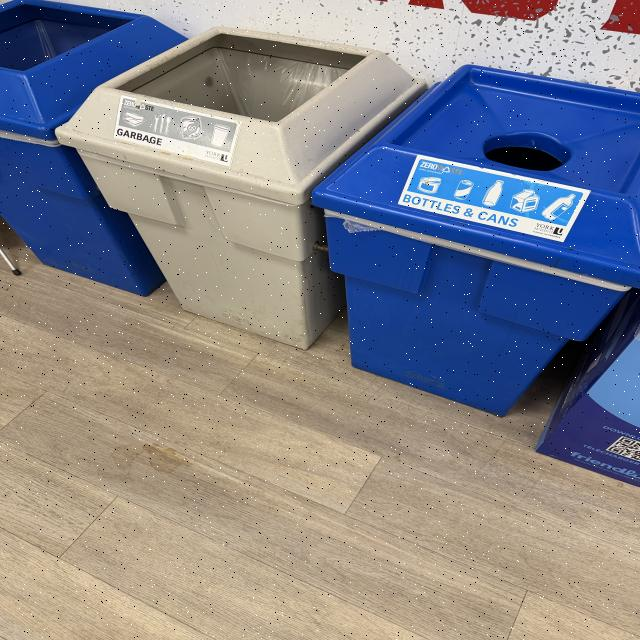Dustbin: (0, 1, 640, 418)
